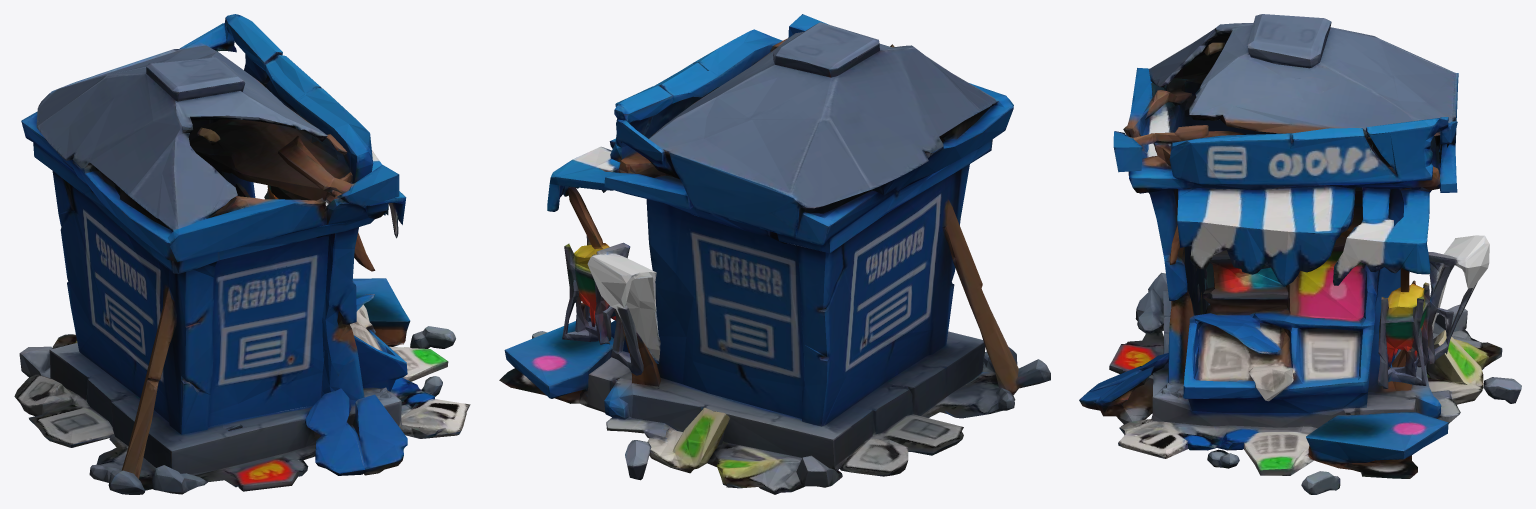
File: banca-quebrada.glb
3 renders of one model, left to right at view 1: azimuth 30°, elevation 25°; view 2: azimuth 150°, elevation 25°; view 3: azimuth 270°, elevation 25°, orthographic. The views are drawn at different scales.
Parts seen in each view (by area): view 1: world; view 2: world; view 3: world.
Part boxes in pixels (bbox=[...]): world: bbox=[14, 14, 470, 494]; world: bbox=[499, 14, 1050, 494]; world: bbox=[1079, 14, 1521, 494].
Size of the model in its own units: 0.8719 by 0.7061 by 0.8183.
1 material, 1 textured.
